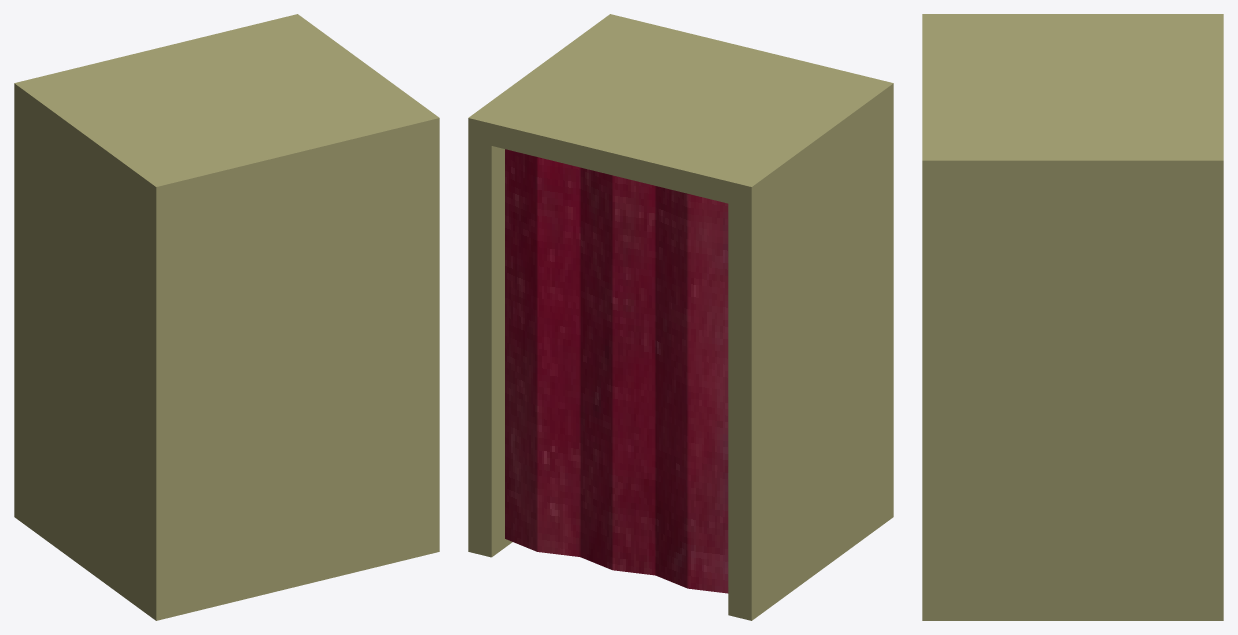
Rendered from Wardrobe.glb.
The picture shows the model from 3 angles, left to right: view 1: azimuth 30°, elevation 25°; view 2: azimuth 150°, elevation 25°; view 3: azimuth 270°, elevation 25°; orthographic projection. The views are drawn at different scales.
Visible parts, largest first — view 1: Budka-col; view 2: Budka-col, Curtains-col; view 3: Budka-col.
Boxes of the visible parts, left/top/right/bottom form: Budka-col: left=14, top=14, right=439, bottom=620; Budka-col: left=468, top=14, right=893, bottom=620; Curtains-col: left=505, top=149, right=728, bottom=593; Budka-col: left=922, top=14, right=1223, bottom=620.
Size of the model in its own units: 1.37 by 2 by 1.19.
3 materials, 3 textured.
